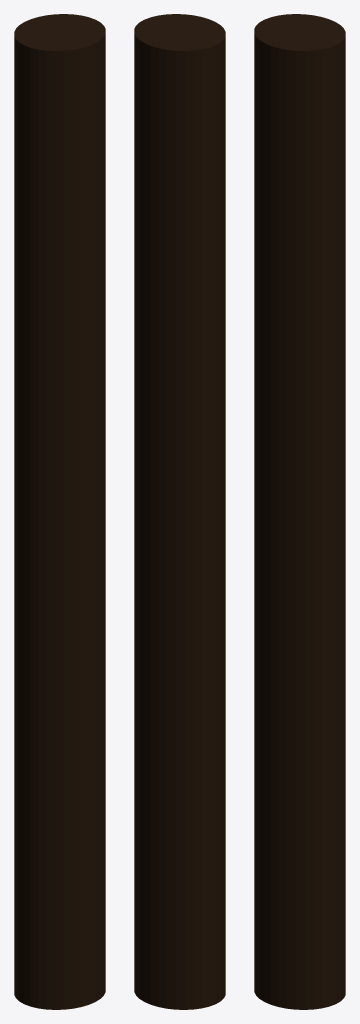
Rendered from Arvore2.fbx.
3 renders of one model, left to right at view 1: azimuth 30°, elevation 25°; view 2: azimuth 150°, elevation 25°; view 3: azimuth 330°, elevation 25°, orthographic.
Parts seen in each view (by area): view 1: Cylinder; view 2: Cylinder; view 3: Cylinder.
Part boxes in pixels (<box>): Cylinder: <box>14,14,105,1009</box>; Cylinder: <box>134,14,225,1009</box>; Cylinder: <box>254,14,345,1009</box>.
Bounding box in the file's own units: 11.16 × 125 × 10.14.
1 material, 1 textured.
